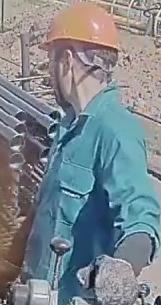gloves: (76, 245, 147, 305)
helmet: (37, 1, 120, 51)
vest: (25, 93, 161, 287)
